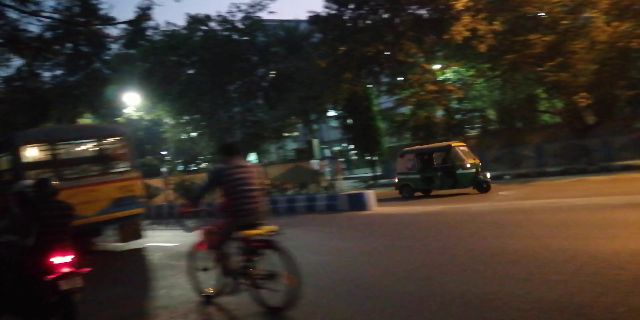Autorickshaw: (391, 142, 496, 196)
Cycle: (181, 143, 303, 305)
